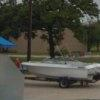Boat: (19, 52, 99, 92)
